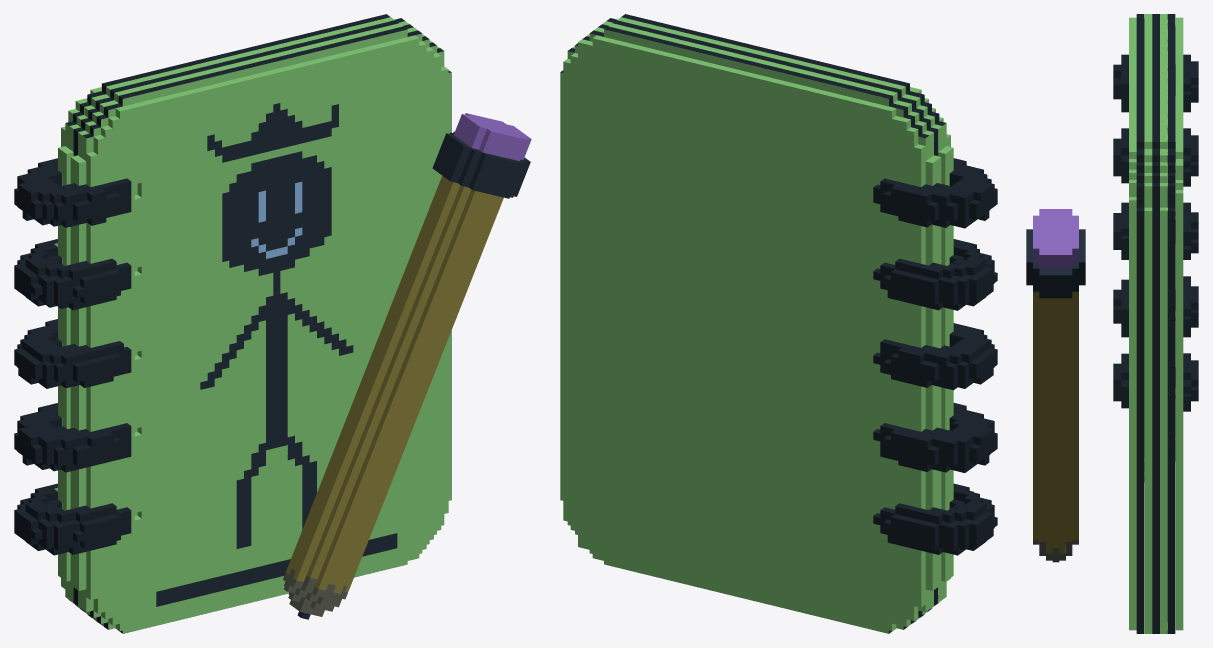
File: asig_diseño_01.gltf
3 renders of one model, left to right at view 1: azimuth 30°, elevation 25°; view 2: azimuth 150°, elevation 25°; view 3: azimuth 270°, elevation 25°, orthographic. The views are drawn at different scales.
Parts seen in each view (by area): view 1: libretavox, lapizvox-0-DISEÑOLAPIZ; view 2: libretavox; view 3: libretavox, lapizvox-0-DISEÑOLAPIZ.
Part boxes in pixels (x1=…): libretavox: x1=14, y1=14, x2=451, y2=633; lapizvox-0-DISEÑOLAPIZ: x1=283, y1=113, x2=531, y2=619; libretavox: x1=560, y1=14, x2=997, y2=633; libretavox: x1=1113, y1=14, x2=1198, y2=633; lapizvox-0-DISEÑOLAPIZ: x1=1026, y1=209, x2=1085, y2=562.
Size of the model in its own units: 6.07 by 7 by 2.22.
